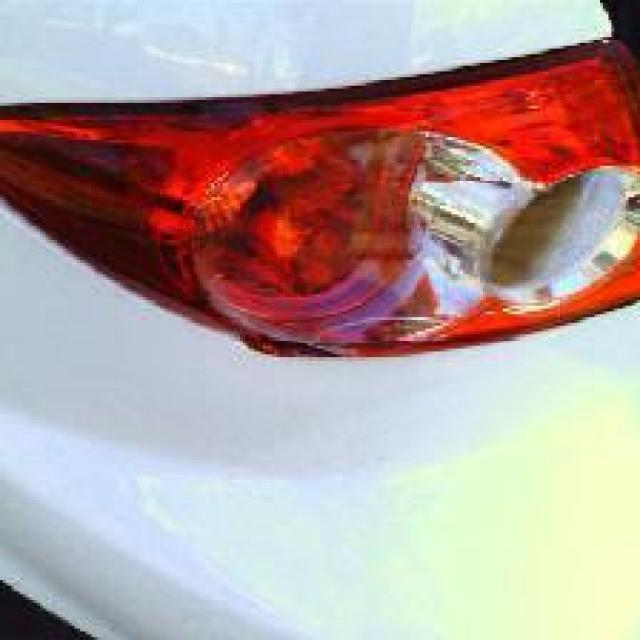damaged: (412, 126, 637, 340)
